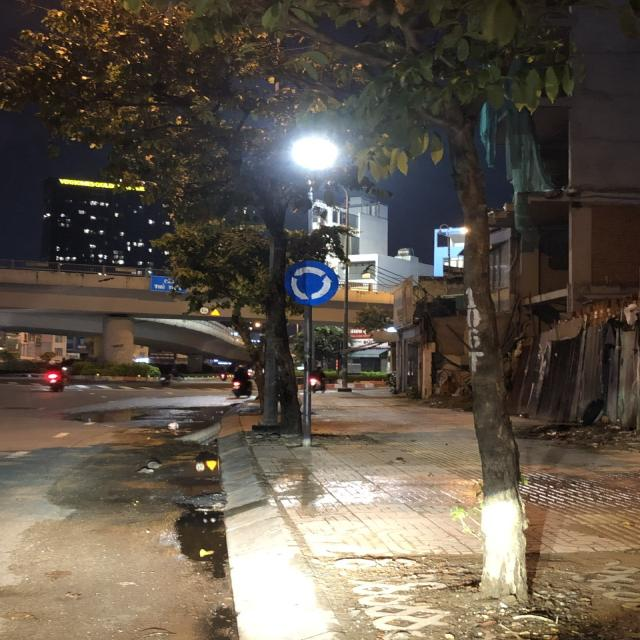Bien bao noi giao nhau chay theo vong xuyen: (282, 258, 343, 309)
